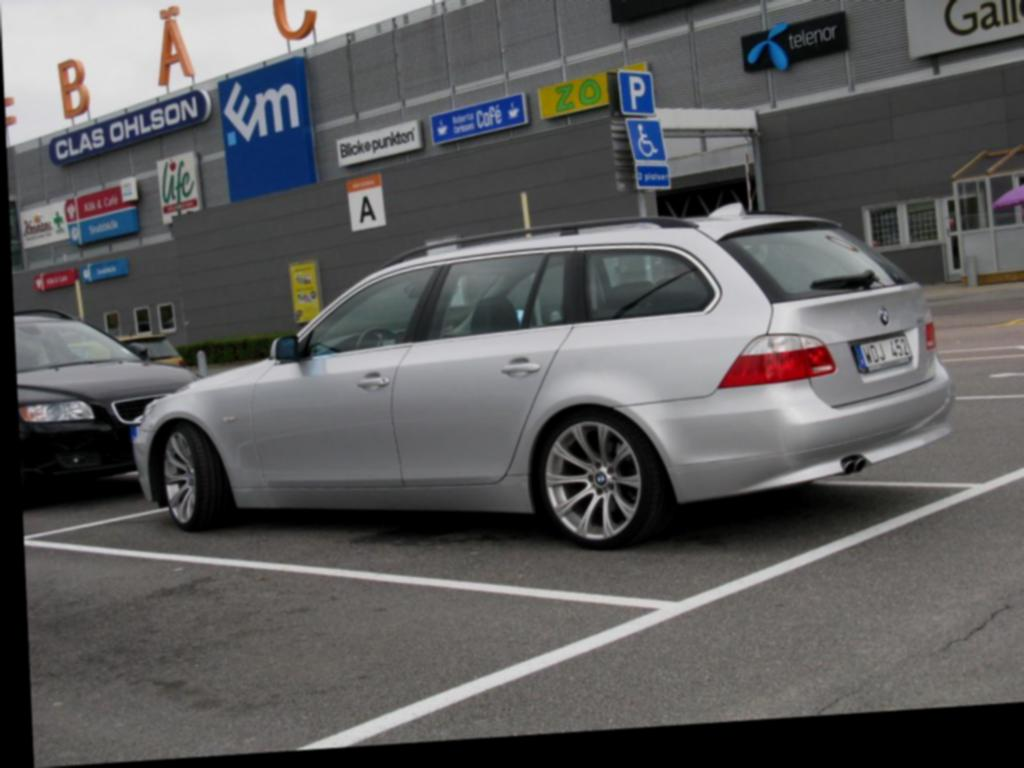License_Plate: (849, 330, 918, 371)
